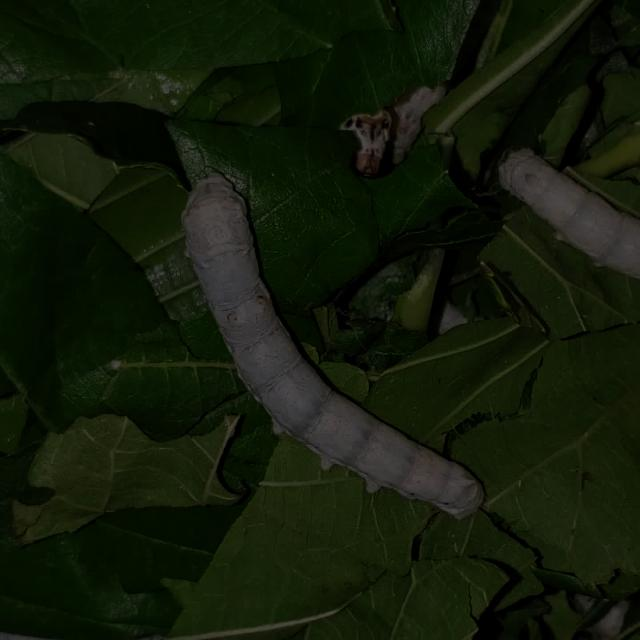Healthy: (164, 160, 498, 540)
